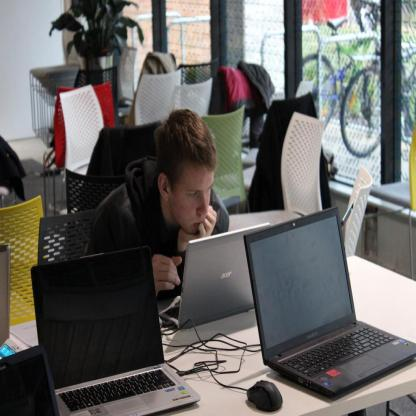board: (247, 204, 416, 404), (32, 246, 200, 415), (156, 225, 270, 329), (0, 342, 58, 414)
